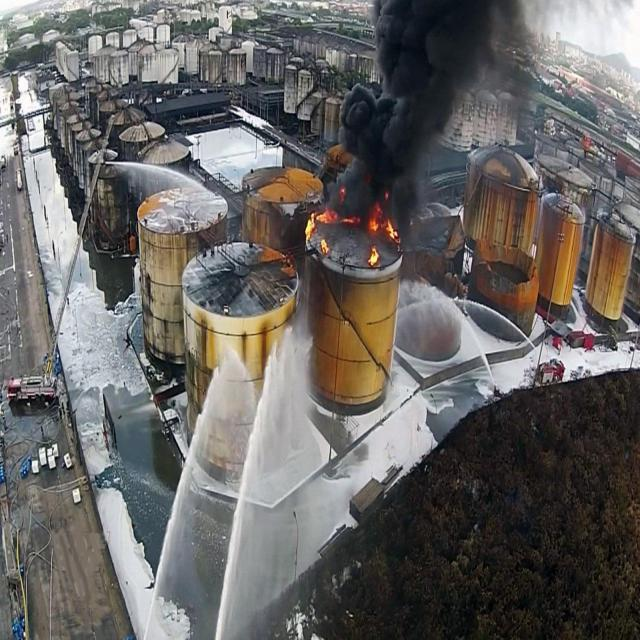Fire: (384, 214, 402, 240), (316, 206, 339, 226), (367, 242, 382, 268), (303, 212, 315, 241), (319, 238, 331, 254), (370, 216, 380, 234)
